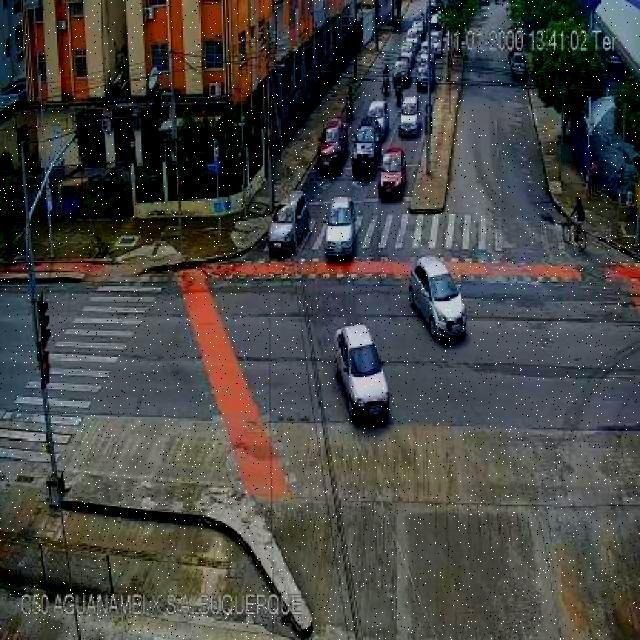Car: (333, 322, 394, 426), (410, 256, 468, 339), (267, 193, 311, 259), (323, 196, 358, 260), (317, 117, 351, 176), (378, 146, 407, 200), (351, 126, 382, 176), (365, 100, 389, 141), (399, 96, 422, 137), (392, 58, 412, 88), (415, 61, 434, 91), (509, 52, 527, 81), (405, 26, 422, 49), (428, 30, 442, 56), (429, 15, 440, 35)
